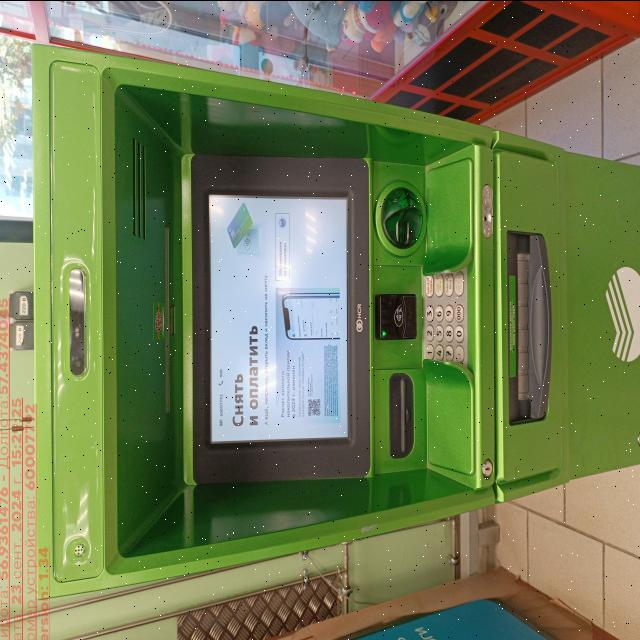bank: (34, 54, 640, 600)
